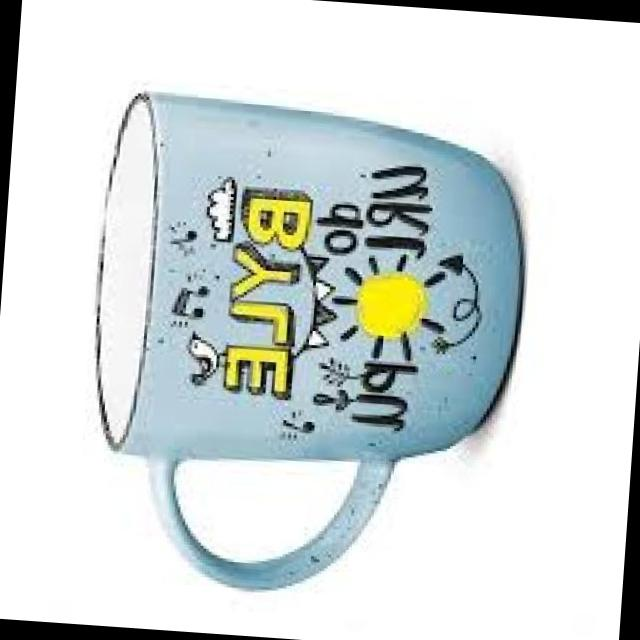Coffee Mug: (77, 86, 534, 608)
